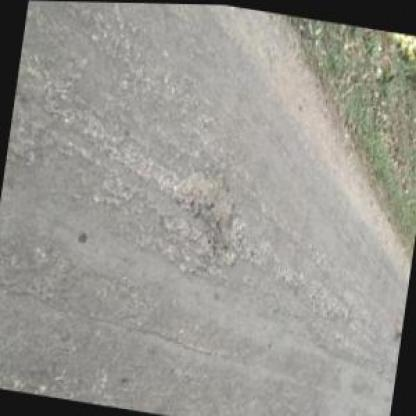pothole: (168, 162, 241, 236)
